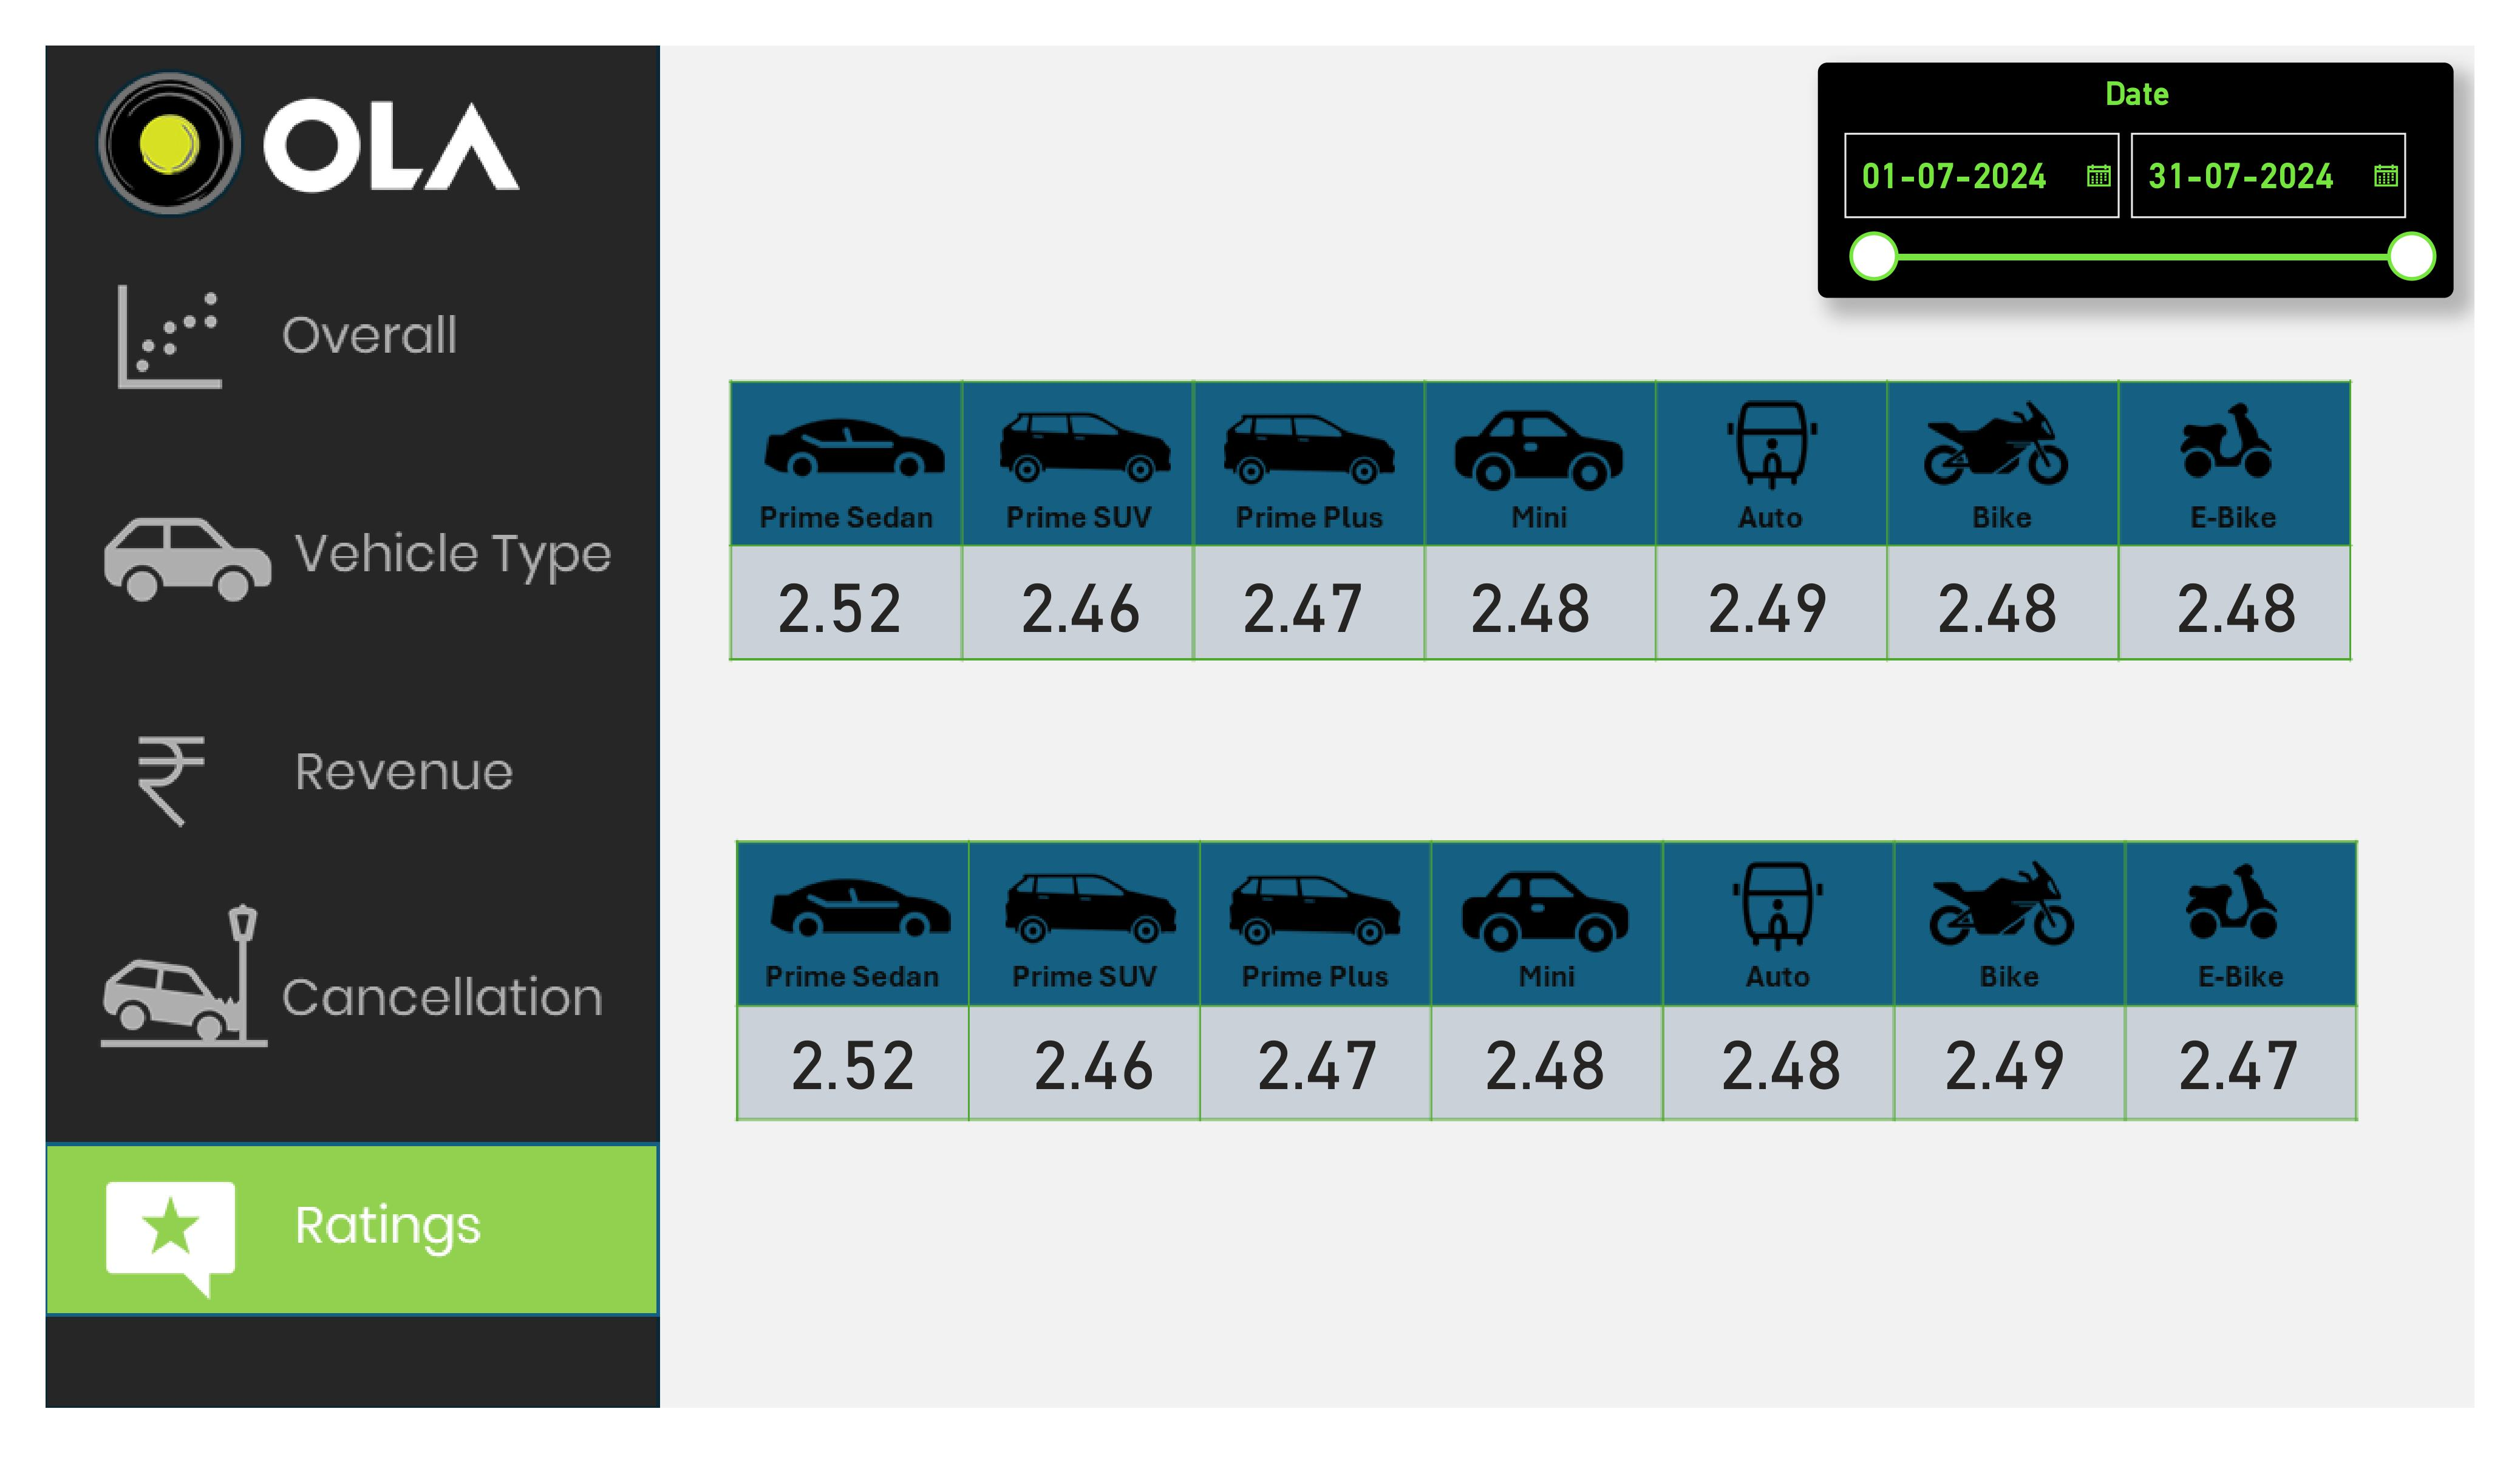

The dashboard page shown, as its layout file describes it:
{"tool":"powerbi","page":{"name":"Ratings ","canvas":[1280,720],"ordinal":4},"visuals":[{"type":"actionButton","box":[0,225,325.7,90],"z":0},{"type":"actionButton","box":[0,342.9,325.7,90],"z":1000},{"type":"actionButton","box":[0,445.7,325.7,90],"z":2000},{"type":"actionButton","box":[0,108.6,325.7,90],"z":3000},{"type":"card","fields":{"Values":["Avg(public ola_bookings.driver_ratings)"]},"box":[367.1,270,102.9,45.7],"z":4000},{"type":"card","fields":{"Values":["Avg(public ola_bookings.driver_ratings)"]},"box":[494.3,270,102.9,45.7],"z":5000},{"type":"card","fields":{"Values":["Avg(public ola_bookings.driver_ratings)"]},"box":[611.4,270,102.9,45.7],"z":6000},{"type":"card","fields":{"Values":["Avg(public ola_bookings.driver_ratings)"]},"box":[731.4,270,102.9,45.7],"z":7000},{"type":"card","fields":{"Values":["Avg(public ola_bookings.driver_ratings)"]},"box":[855.7,270,102.9,45.7],"z":8000},{"type":"card","fields":{"Values":["Avg(public ola_bookings.driver_ratings)"]},"box":[977.1,270,102.9,45.7],"z":9000},{"type":"card","fields":{"Values":["Avg(public ola_bookings.driver_ratings)"]},"box":[1102.9,270,102.9,45.7],"z":10000},{"type":"card","fields":{"Values":["Avg(public ola_bookings.customer_rating)"]},"box":[374.3,511.4,102.9,45.7],"z":11000},{"type":"card","fields":{"Values":["Avg(public ola_bookings.customer_rating)"]},"box":[501.4,511.4,102.9,45.7],"z":12000},{"type":"card","fields":{"Values":["Avg(public ola_bookings.customer_rating)"]},"box":[618.6,511.4,102.9,45.7],"z":13000},{"type":"card","fields":{"Values":["Avg(public ola_bookings.customer_rating)"]},"box":[738.6,511.4,102.9,45.7],"z":14000},{"type":"card","fields":{"Values":["Avg(public ola_bookings.customer_rating)"]},"box":[862.9,511.4,102.9,45.7],"z":15000},{"type":"card","fields":{"Values":["Avg(public ola_bookings.customer_rating)"]},"box":[985.7,511.4,92.9,45.7],"z":16000},{"type":"card","fields":{"Values":["Avg(public ola_bookings.customer_rating)"]},"box":[1104.3,511.4,102.9,45.7],"z":17000},{"type":"slicer","title":"Date","fields":{"Values":["public ola_bookings.date"]},"box":[934.3,8.6,334.3,124.3],"z":18000}]}

Visuals, with their boxes on the page's 1280x720 design canvas (x1, y1, x2, y2). These are canvas units, not pixel positions in the 2520x1457 screenshot, which may show the page scaled, cropped or inside an application window:
actionButton: x1=0 y1=225 x2=326 y2=315
actionButton: x1=0 y1=343 x2=326 y2=433
actionButton: x1=0 y1=446 x2=326 y2=536
actionButton: x1=0 y1=109 x2=326 y2=199
card - Avg(public ola_bookings.driver_ratings): x1=367 y1=270 x2=470 y2=316
card - Avg(public ola_bookings.driver_ratings): x1=494 y1=270 x2=597 y2=316
card - Avg(public ola_bookings.driver_ratings): x1=611 y1=270 x2=714 y2=316
card - Avg(public ola_bookings.driver_ratings): x1=731 y1=270 x2=834 y2=316
card - Avg(public ola_bookings.driver_ratings): x1=856 y1=270 x2=959 y2=316
card - Avg(public ola_bookings.driver_ratings): x1=977 y1=270 x2=1080 y2=316
card - Avg(public ola_bookings.driver_ratings): x1=1103 y1=270 x2=1206 y2=316
card - Avg(public ola_bookings.customer_rating): x1=374 y1=511 x2=477 y2=557
card - Avg(public ola_bookings.customer_rating): x1=501 y1=511 x2=604 y2=557
card - Avg(public ola_bookings.customer_rating): x1=619 y1=511 x2=722 y2=557
card - Avg(public ola_bookings.customer_rating): x1=739 y1=511 x2=842 y2=557
card - Avg(public ola_bookings.customer_rating): x1=863 y1=511 x2=966 y2=557
card - Avg(public ola_bookings.customer_rating): x1=986 y1=511 x2=1079 y2=557
card - Avg(public ola_bookings.customer_rating): x1=1104 y1=511 x2=1207 y2=557
"Date" slicer: x1=934 y1=9 x2=1269 y2=133
